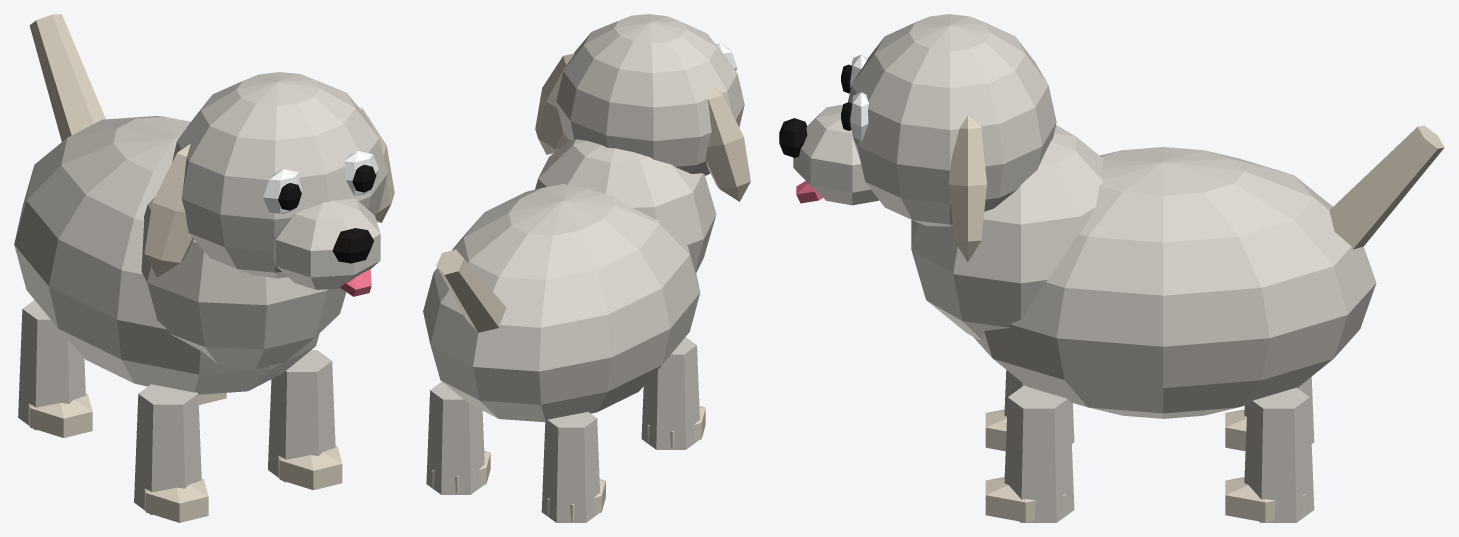
The model's file is dog_0.glb.
3 views of the same model, side by side, from view 1: azimuth 30°, elevation 25°; view 2: azimuth 150°, elevation 25°; view 3: azimuth 270°, elevation 25° (orthographic). The views are drawn at different scales.
Parts seen in each view (by area): view 1: body, head, legs, tail, ears, head_dog_black, head_dog_eye, head_dog_tongue; view 2: body, head, legs, ears, tail; view 3: body, head, legs, tail, ears, head_dog_black, head_dog_eye.
Boxes of the visible parts, bbox=[...] form: body: bbox=[14, 116, 346, 394]; head: bbox=[172, 72, 387, 289]; legs: bbox=[18, 300, 342, 522]; tail: bbox=[29, 14, 105, 141]; ears: bbox=[144, 107, 394, 277]; head_dog_black: bbox=[278, 164, 375, 263]; head_dog_eye: bbox=[263, 151, 378, 214]; head_dog_tongue: bbox=[340, 270, 371, 296]; body: bbox=[423, 139, 716, 422]; head: bbox=[556, 14, 744, 175]; legs: bbox=[426, 337, 705, 522]; ears: bbox=[535, 53, 750, 201]; tail: bbox=[436, 249, 506, 332]; body: bbox=[911, 125, 1376, 418]; head: bbox=[793, 14, 1056, 226]; legs: bbox=[985, 370, 1314, 522]; tail: bbox=[1329, 125, 1444, 249]; ears: bbox=[948, 116, 986, 262]; head_dog_black: bbox=[779, 64, 851, 157]; head_dog_eye: bbox=[850, 54, 868, 140].
Bounding box in the file's own units: 0.34 × 0.57 × 0.7492.
